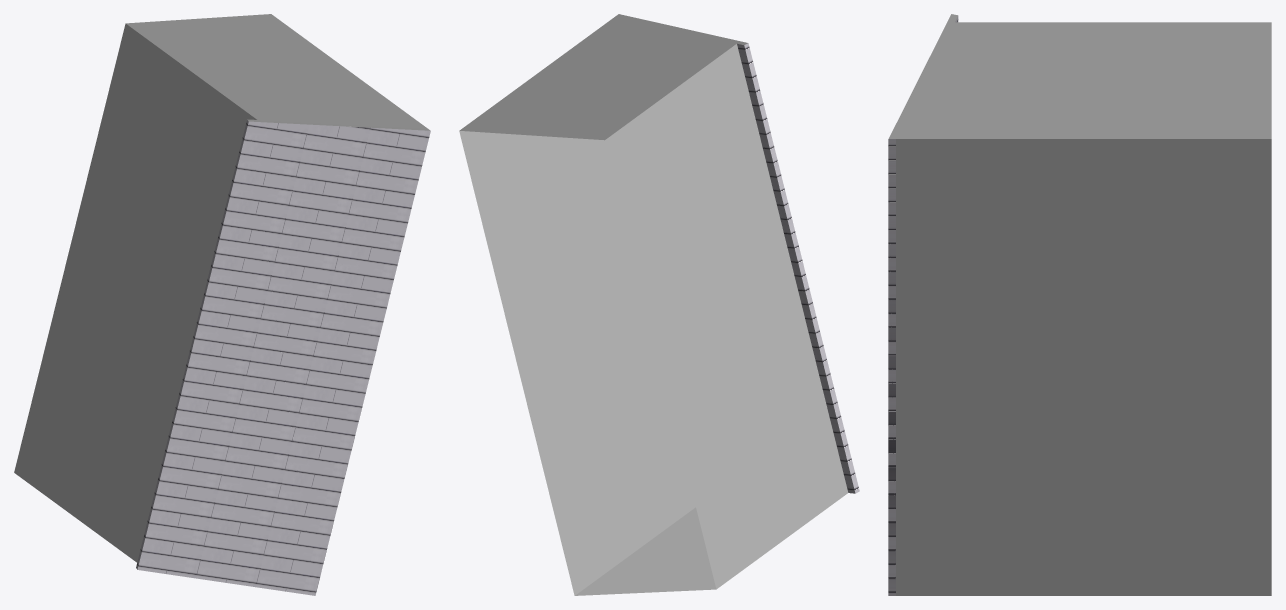
File: Pikk_30a.obj
The picture shows the model from 3 angles, left to right: view 1: azimuth 30°, elevation 25°; view 2: azimuth 150°, elevation 25°; view 3: azimuth 270°, elevation 25°; orthographic projection. The views are drawn at different scales.
Visible parts, largest first — view 1: Pikk_30a, xxx; view 2: Pikk_30a, xxx; view 3: Pikk_30a, xxx.
Boxes of the visible parts, left/top/right/bottom form: Pikk_30a: left=14, top=23, right=430, bottom=595; xxx: left=126, top=14, right=429, bottom=130; Pikk_30a: left=459, top=43, right=859, bottom=595; xxx: left=459, top=14, right=747, bottom=140; Pikk_30a: left=888, top=16, right=1271, bottom=595; xxx: left=888, top=14, right=1271, bottom=138.
Bounding box in the file's own units: 10.1 × 16.8 × 10.45.
